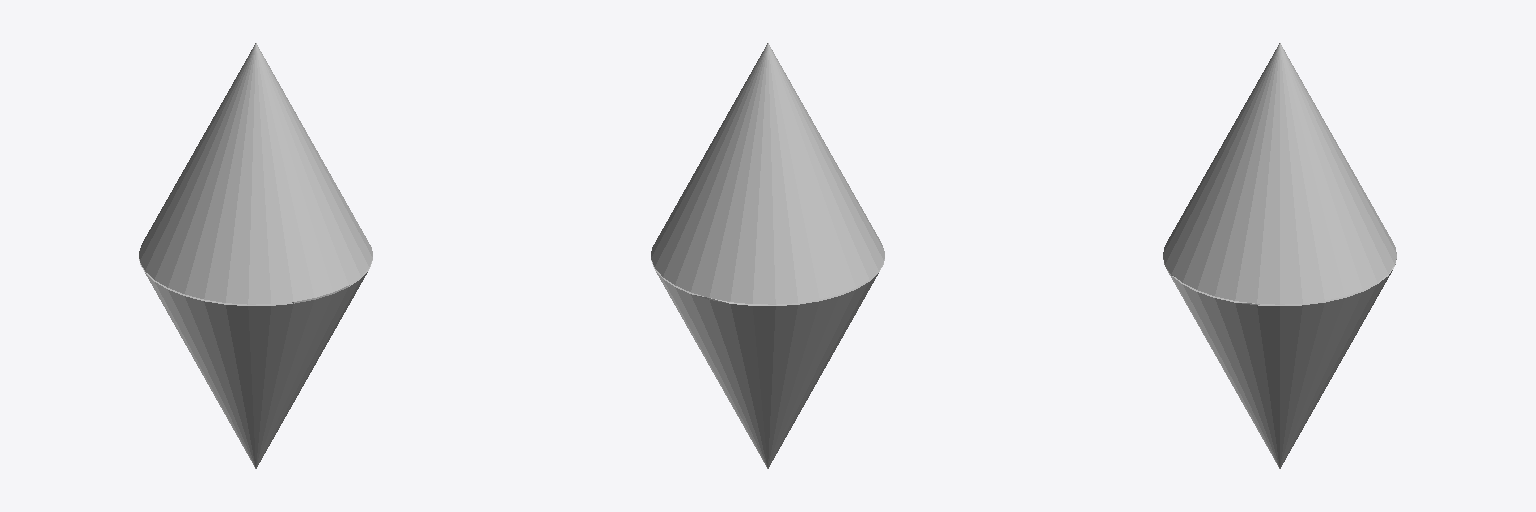
The model's file is finish.obj.
3 views of the same model, side by side, from view 1: azimuth 30°, elevation 25°; view 2: azimuth 150°, elevation 25°; view 3: azimuth 270°, elevation 25° (orthographic).
Visible parts, largest first — view 1: Cone; view 2: Cone; view 3: Cone.
Boxes of the visible parts, x1,y1,x2,y2 form: Cone: [139, 43, 372, 468]; Cone: [651, 43, 884, 468]; Cone: [1163, 43, 1396, 468].
Size of the model in its own units: 2 by 4.02 by 2.